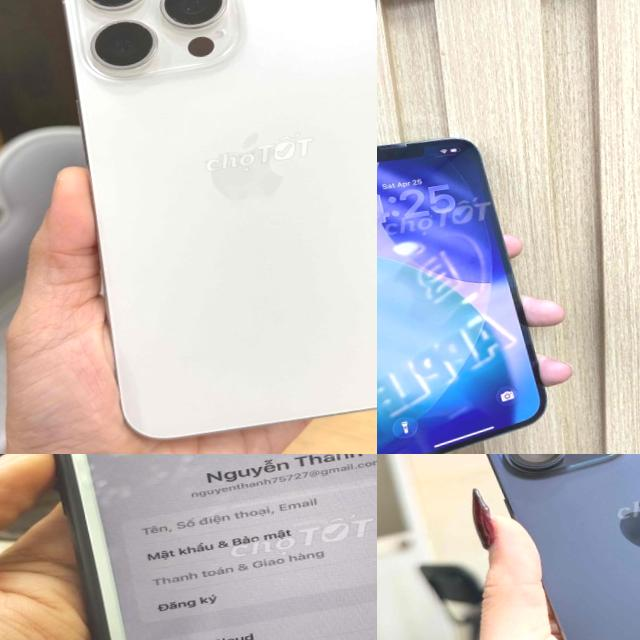gen_12_13: (377, 118, 563, 454)
gen_15: (10, 0, 377, 454), (439, 454, 640, 640)
gen_7_8: (6, 454, 377, 640)
